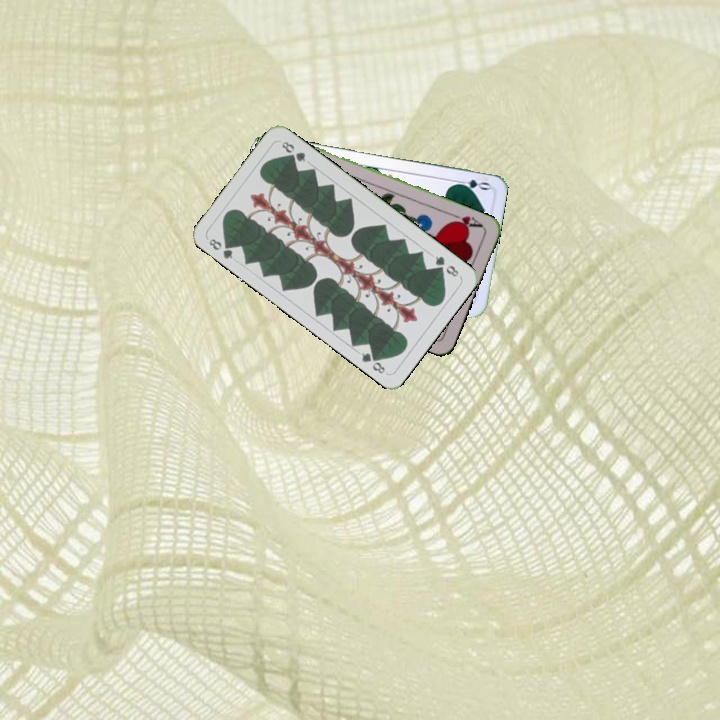G8: (205, 234, 236, 262), (431, 252, 461, 280)
GO: (451, 175, 492, 193)
HA: (446, 209, 486, 231)
